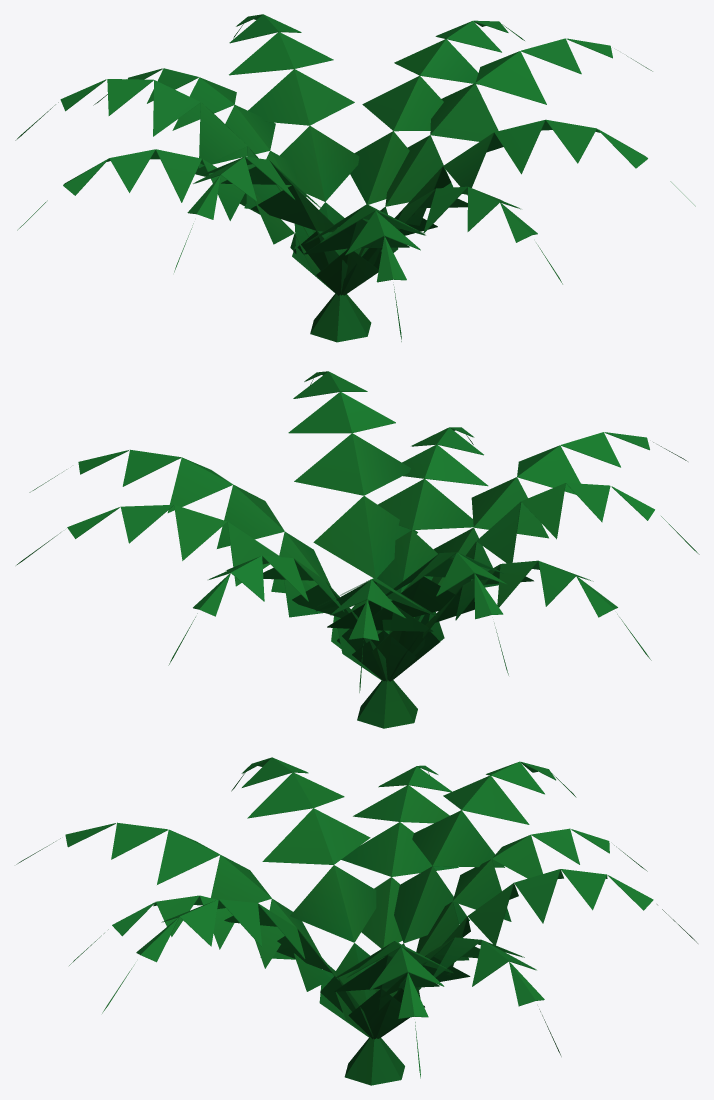
Rendered from fern_wide.glb.
The picture shows the model from 3 angles, top to bottom: view 1: azimuth 30°, elevation 25°; view 2: azimuth 150°, elevation 25°; view 3: azimuth 270°, elevation 25°; orthographic projection.
Size of the model in its own units: 1.75 by 0.6258 by 1.66.
